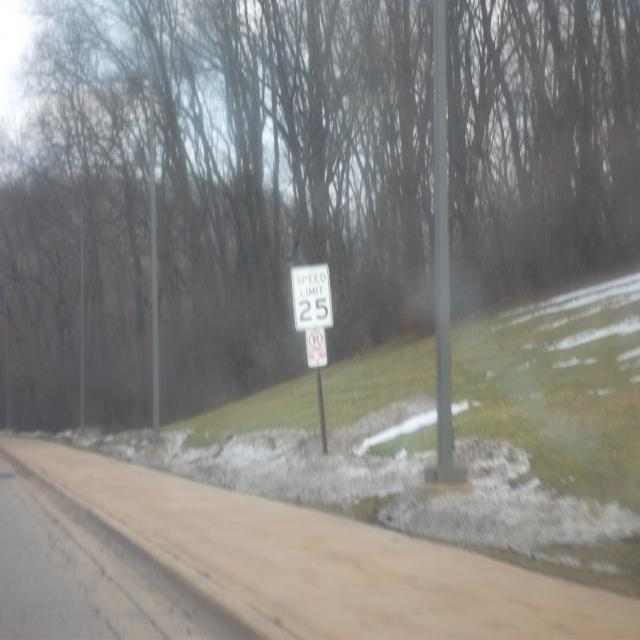regulatory: (290, 260, 337, 328), (306, 322, 329, 378)
